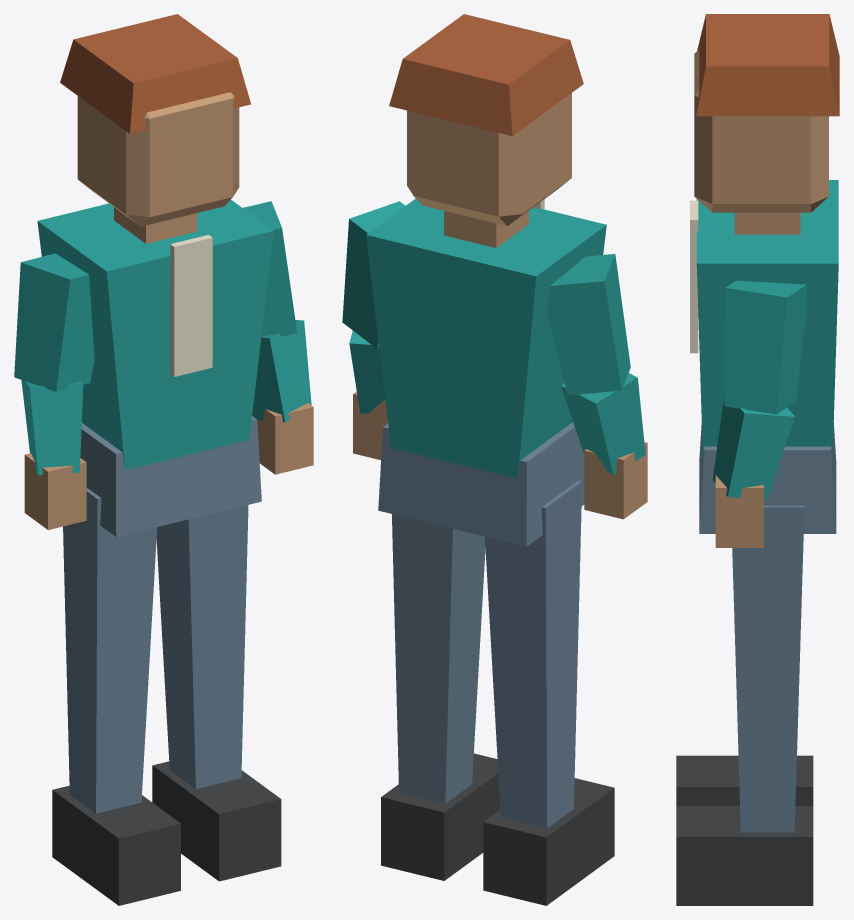
The model's file is Citizen_Female_04_Teal_Jacket.fbx.
The picture shows the model from 3 angles, left to right: view 1: azimuth 30°, elevation 25°; view 2: azimuth 150°, elevation 25°; view 3: azimuth 270°, elevation 25°; orthographic projection. The views are drawn at different scales.
Visible parts, largest first — view 1: Citizen_Female_04_Teal_Jacket_Mesh; view 2: Citizen_Female_04_Teal_Jacket_Mesh; view 3: Citizen_Female_04_Teal_Jacket_Mesh.
Boxes of the visible parts, x1,y1,x2,y2 form: Citizen_Female_04_Teal_Jacket_Mesh: (14,14,313,905); Citizen_Female_04_Teal_Jacket_Mesh: (342,14,647,905); Citizen_Female_04_Teal_Jacket_Mesh: (676,14,839,905).
Size of the model in its own units: 62.45 by 175 by 31.34.
